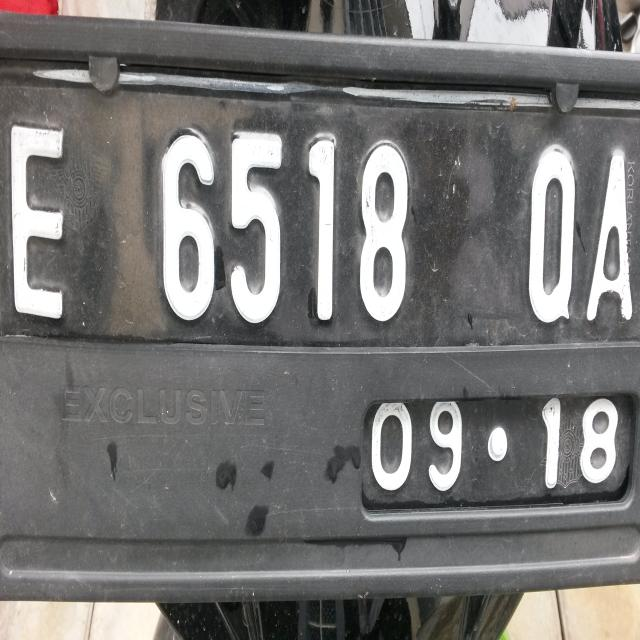plate: (1, 59, 640, 522)
